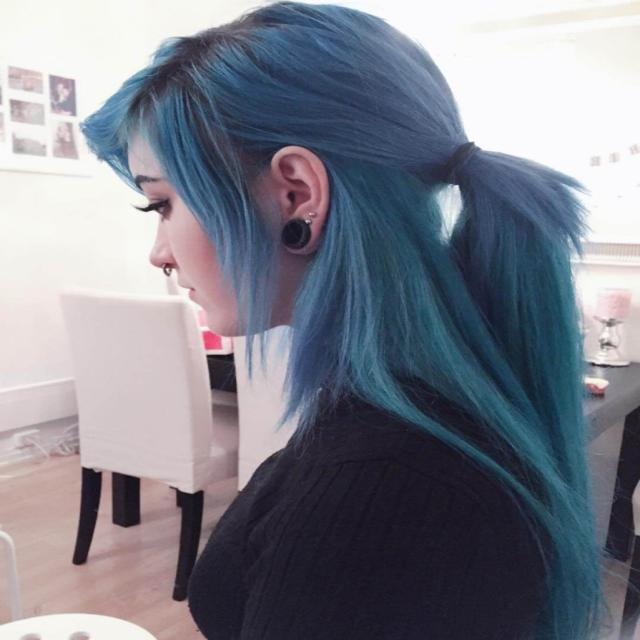Nonhelmet: (69, 0, 495, 357)
